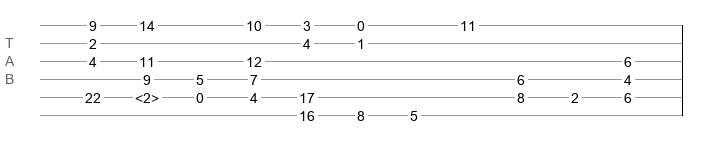0: (196, 90, 204, 100), (357, 18, 365, 28)
1: (357, 36, 365, 46)
10: (246, 18, 262, 28)
11: (139, 54, 155, 64), (460, 18, 476, 28)
12: (246, 54, 262, 64)
14: (139, 18, 155, 28)
16: (299, 108, 315, 118)
17: (299, 90, 315, 100)
2: (89, 36, 97, 46), (571, 90, 579, 100)
22: (85, 90, 101, 100)
3: (303, 18, 311, 28)
4: (89, 54, 97, 64), (250, 90, 258, 100), (303, 36, 311, 46), (624, 72, 632, 82)
5: (196, 72, 204, 82), (410, 108, 418, 118)
6: (517, 72, 525, 82), (624, 54, 632, 64), (624, 90, 632, 100)
7: (250, 72, 258, 82)
8: (357, 108, 365, 118), (517, 90, 525, 100)
9: (89, 18, 97, 28), (143, 72, 151, 82)
harmonic: (135, 90, 159, 100)
